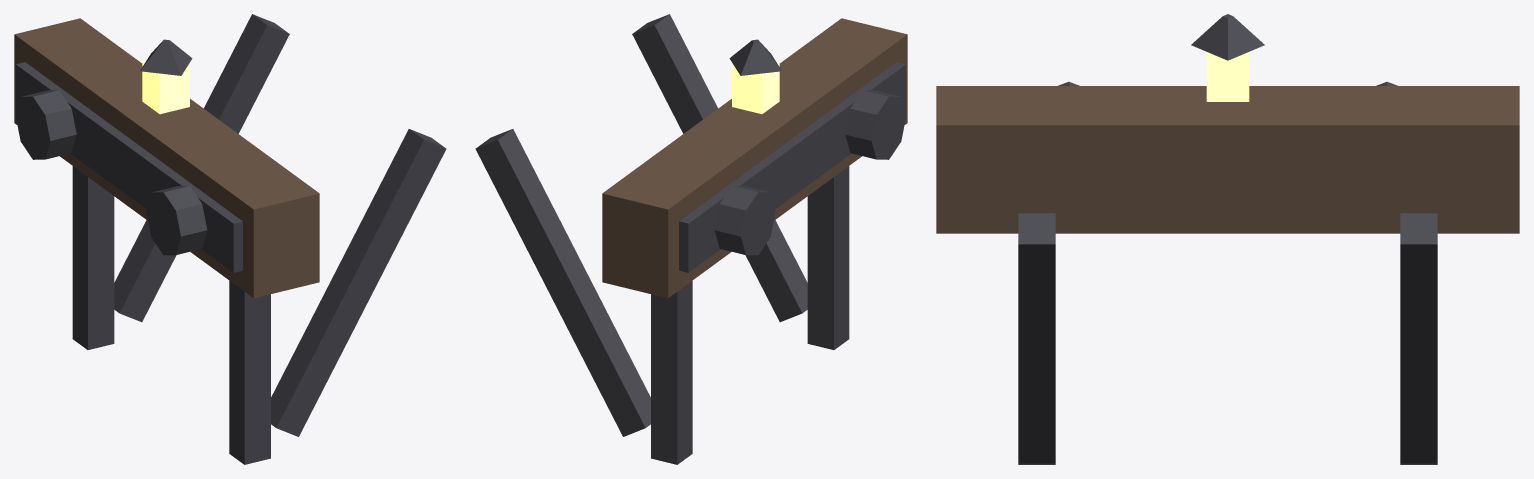
Rendered from buffer_stop.glb.
The picture shows the model from 3 angles, left to right: view 1: azimuth 30°, elevation 25°; view 2: azimuth 150°, elevation 25°; view 3: azimuth 270°, elevation 25°; orthographic projection. The views are drawn at different scales.
Visible parts, largest first — view 1: buffer_stop; view 2: buffer_stop; view 3: buffer_stop.
Boxes of the visible parts, bbox=[...] form: buffer_stop: bbox=[14, 14, 446, 464]; buffer_stop: bbox=[475, 14, 907, 464]; buffer_stop: bbox=[936, 14, 1519, 464].
Size of the model in its own units: 1.39 by 1.82 by 2.2.
